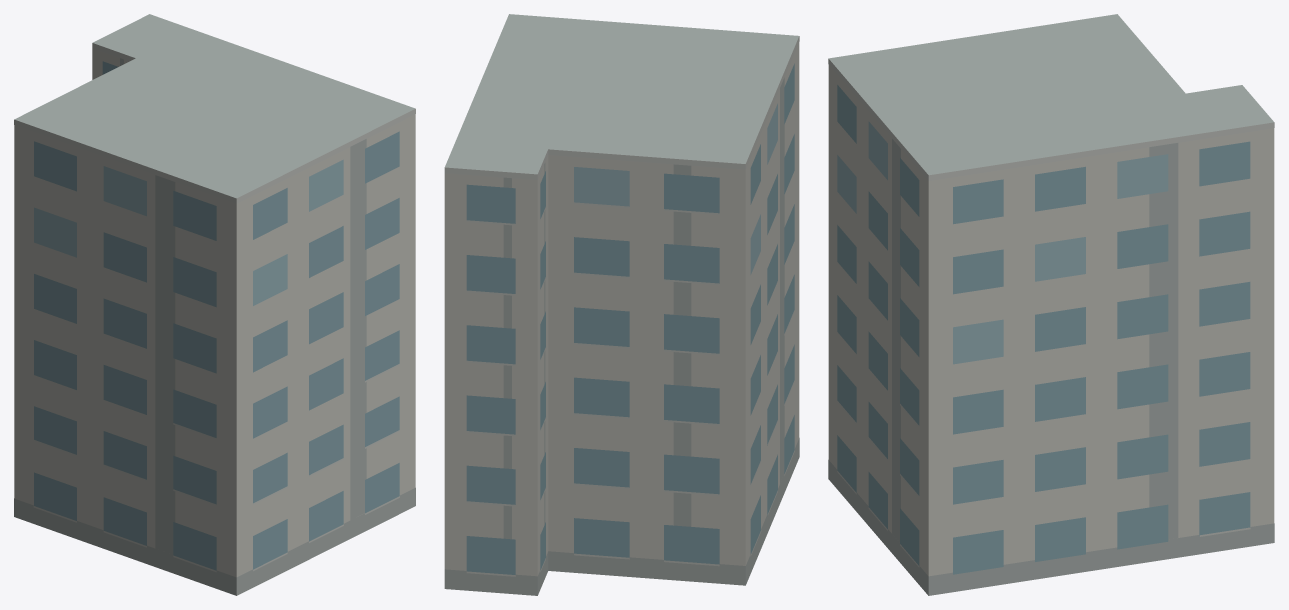
Rendered from residential-b8b6edb0-71f9-442e-bf6f-107f9b0acb04.glb.
The picture shows the model from 3 angles, left to right: view 1: azimuth 30°, elevation 25°; view 2: azimuth 150°, elevation 25°; view 3: azimuth 270°, elevation 25°; orthographic projection. The views are drawn at different scales.
Visible parts, largest first — view 1: residential-b8b6edb0-71f9-442e-bf6f-107f9b0acb04.tmp; view 2: residential-b8b6edb0-71f9-442e-bf6f-107f9b0acb04.tmp; view 3: residential-b8b6edb0-71f9-442e-bf6f-107f9b0acb04.tmp.
Part boxes in pixels (bbox=[...]): residential-b8b6edb0-71f9-442e-bf6f-107f9b0acb04.tmp: bbox=[14, 14, 415, 595]; residential-b8b6edb0-71f9-442e-bf6f-107f9b0acb04.tmp: bbox=[444, 14, 799, 595]; residential-b8b6edb0-71f9-442e-bf6f-107f9b0acb04.tmp: bbox=[828, 14, 1274, 595].
Bounding box in the file's own units: 14.82 × 18 × 17.31.
